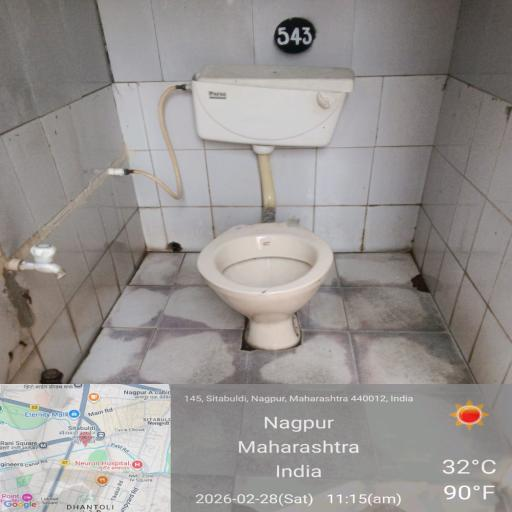clean_floor: (144, 0, 428, 209), (0, 0, 121, 328), (444, 10, 512, 261)
dirty_floor: (124, 251, 456, 394)
partial_dirty_floor: (0, 327, 121, 383), (462, 285, 512, 381)
partial_dirty_western: (209, 206, 325, 348)
